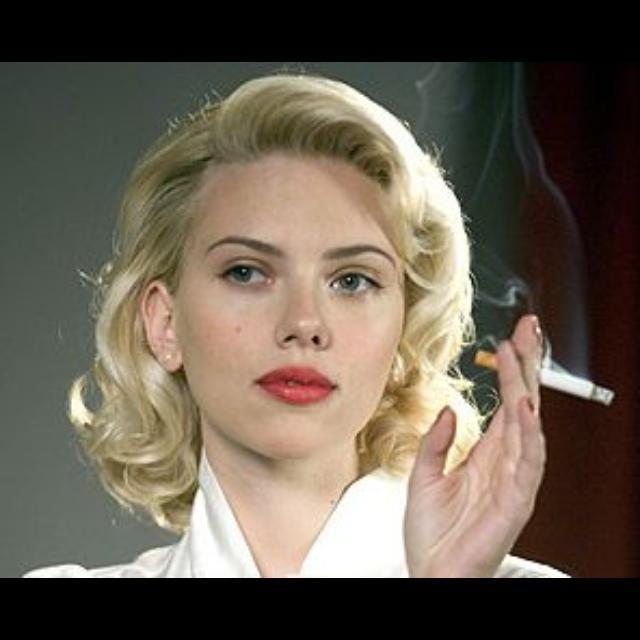rokok: (479, 342, 619, 412)
